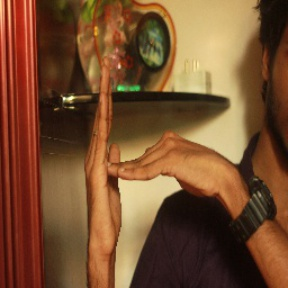Z: (77, 62, 216, 250)
